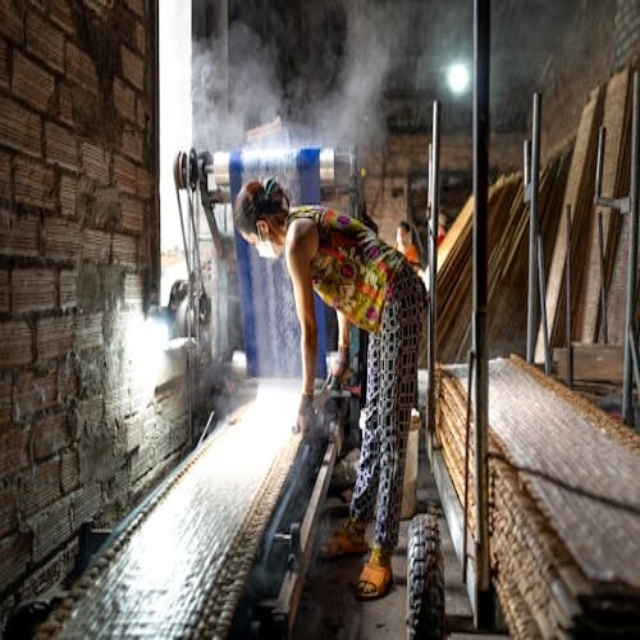Mascara: (255, 222, 276, 260)
